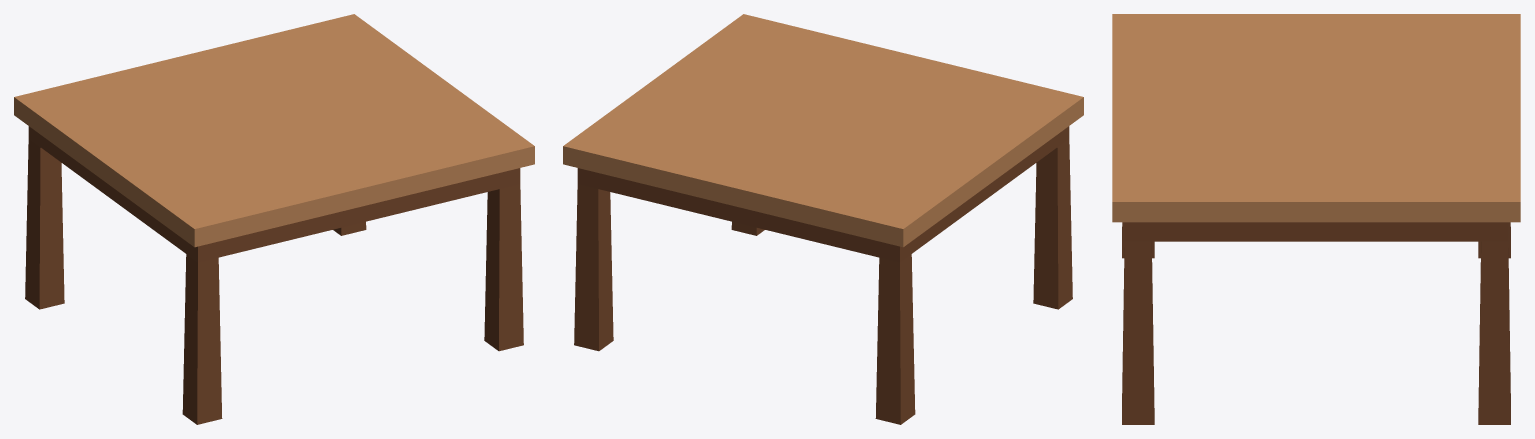
File: Table.glb
3 renders of one model, left to right at view 1: azimuth 30°, elevation 25°; view 2: azimuth 150°, elevation 25°; view 3: azimuth 270°, elevation 25°, orthographic. The views are drawn at different scales.
Bounding box in the file's own units: 1.11 × 0.6228 × 1.02.
